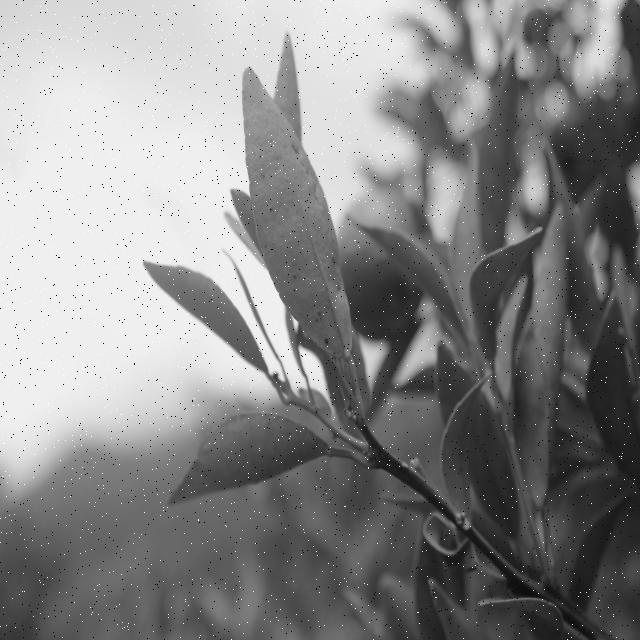blackspot: (242, 88, 358, 358)
